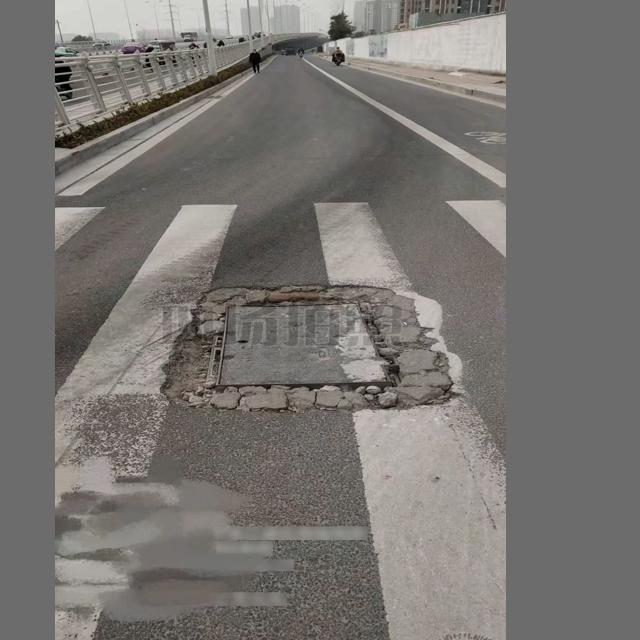circle: (229, 459, 640, 640)
